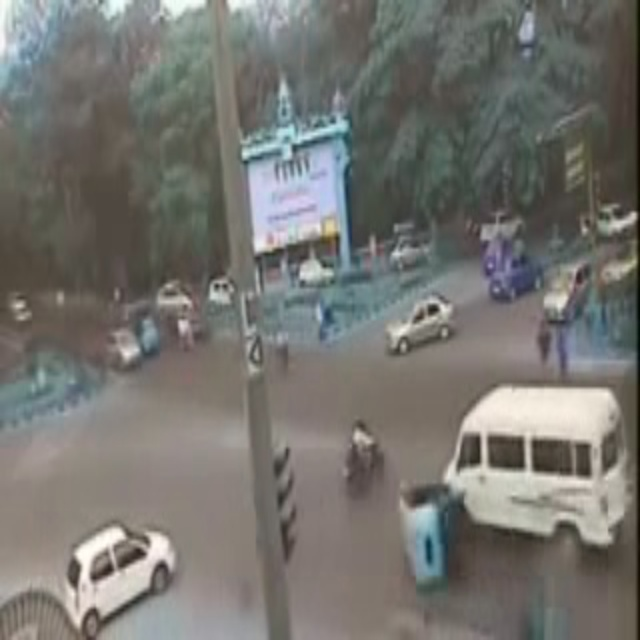acc: (392, 393, 504, 585)
